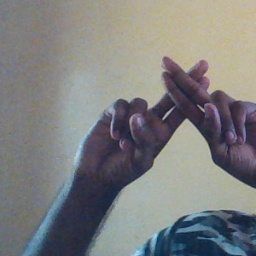F: (130, 52, 237, 160)
